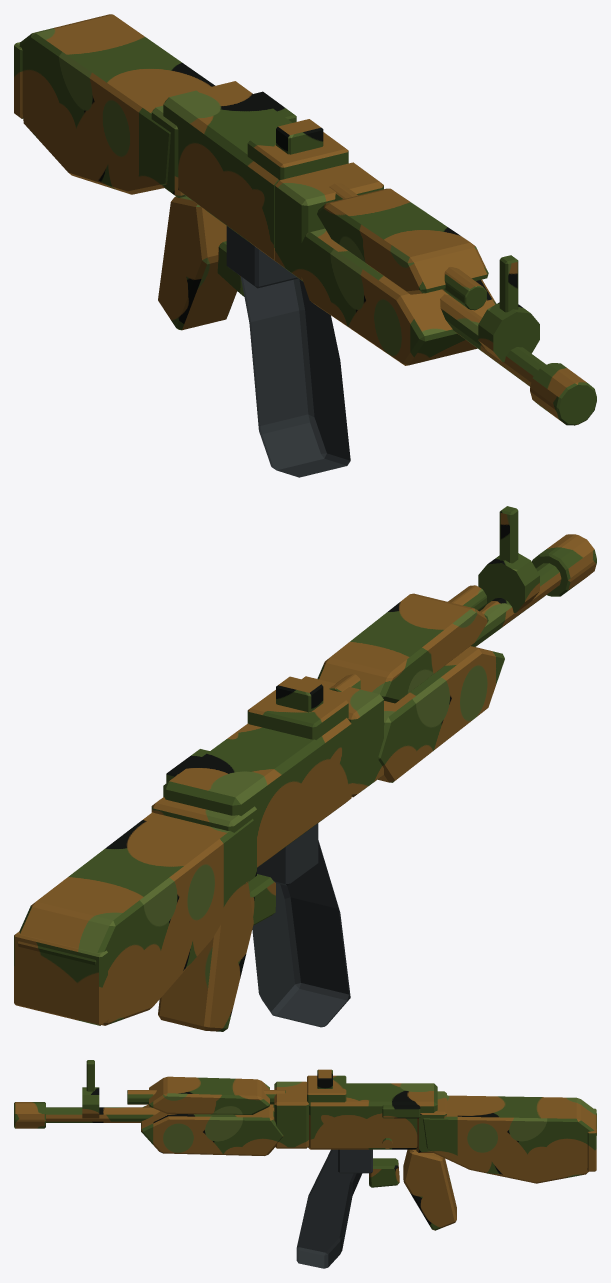
The model's file is AK47_RuralCamo.glb.
3 renders of one model, top to bottom at view 1: azimuth 30°, elevation 25°; view 2: azimuth 150°, elevation 25°; view 3: azimuth 270°, elevation 25°, orthographic. The views are drawn at different scales.
Parts seen in each view (by area): view 1: FTF_Weapon_AK47_RuralCamo_Mesh; view 2: FTF_Weapon_AK47_RuralCamo_Mesh; view 3: FTF_Weapon_AK47_RuralCamo_Mesh.
Boxes of the visible parts, x1=… form: FTF_Weapon_AK47_RuralCamo_Mesh: x1=14, y1=14, x2=596, y2=477; FTF_Weapon_AK47_RuralCamo_Mesh: x1=14, y1=506, x2=596, y2=1031; FTF_Weapon_AK47_RuralCamo_Mesh: x1=14, y1=1060, x2=596, y2=1268.
Bounding box in the file's own units: 0.198 × 0.7282 × 1.92.
Materials: 2 (1 with a texture image).
